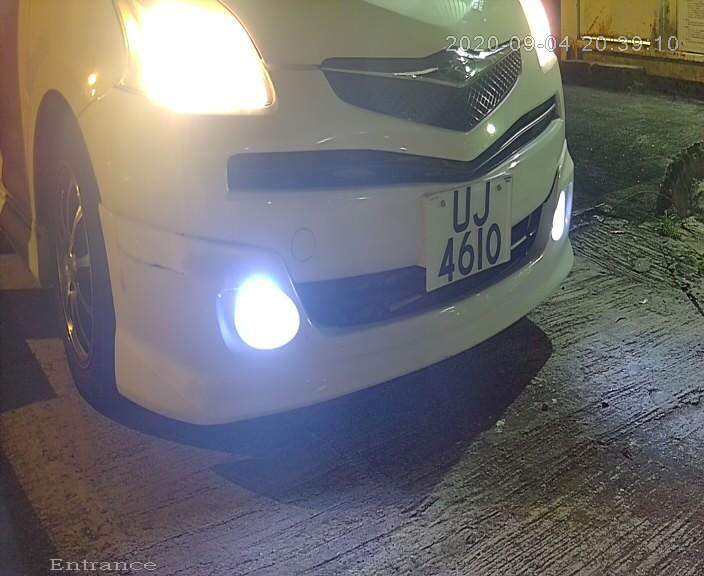Car: (26, 1, 610, 476)
License Plate: (402, 158, 522, 312)
